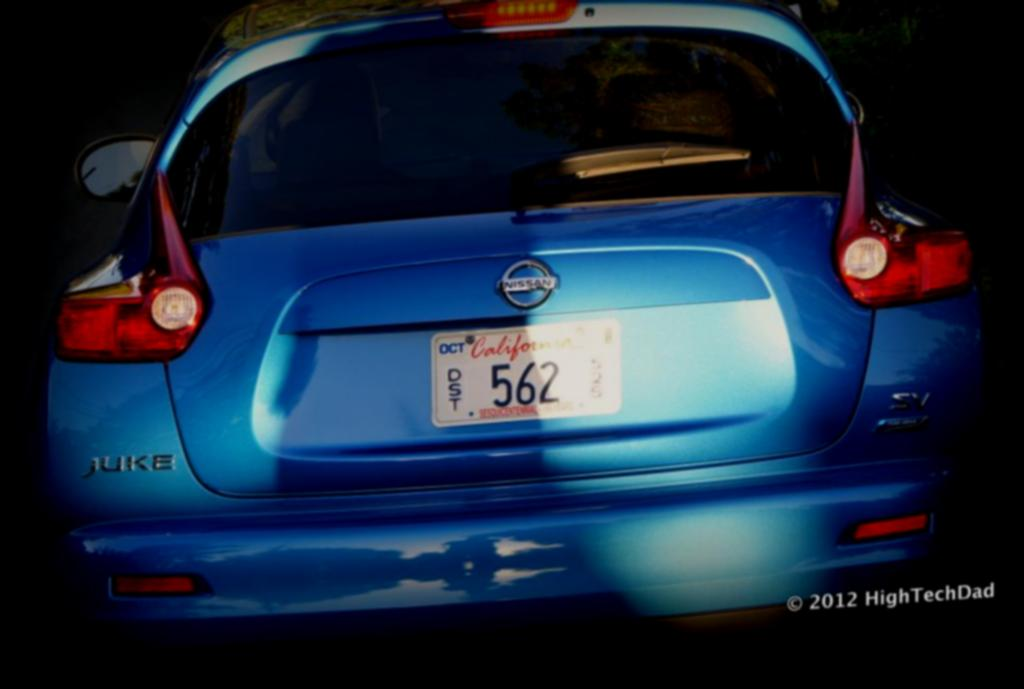License_Plate: (427, 316, 623, 433)
